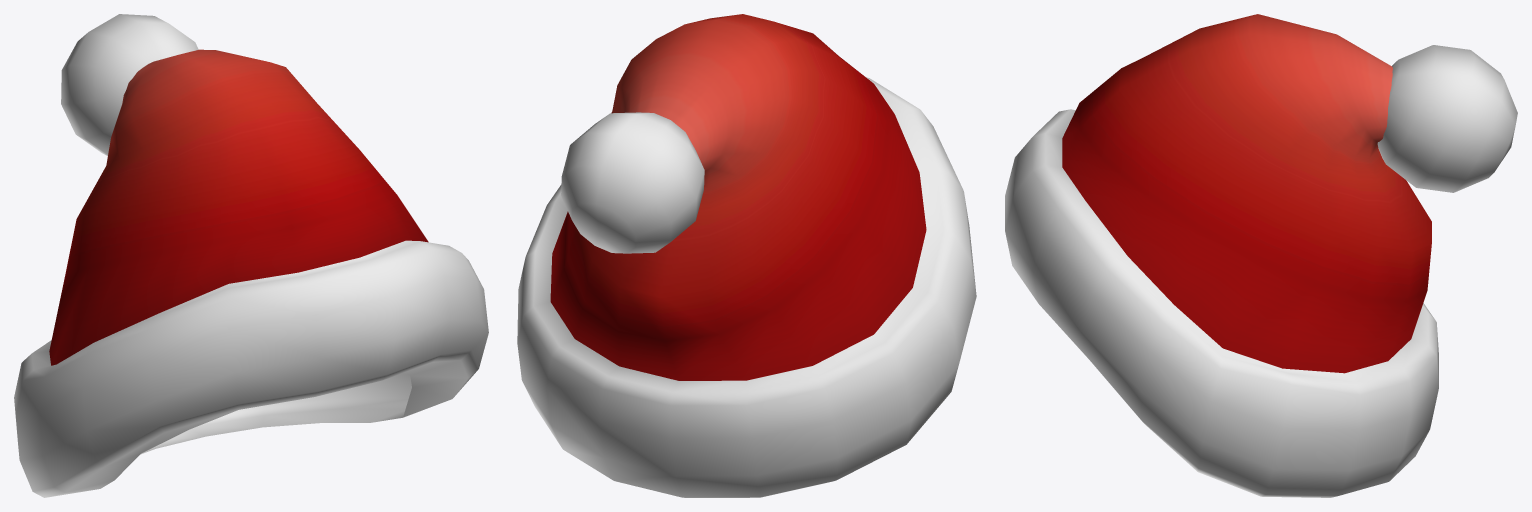
File: gorro.gltf
3 renders of one model, left to right at view 1: azimuth 30°, elevation 25°; view 2: azimuth 150°, elevation 25°; view 3: azimuth 270°, elevation 25°, orthographic. The views are drawn at different scales.
Parts seen in each view (by area): view 1: Node1; view 2: Node1; view 3: Node1.
Boxes of the visible parts, x1=… form: Node1: x1=14, y1=14, x2=488, y2=497; Node1: x1=517, y1=14, x2=976, y2=497; Node1: x1=1005, y1=14, x2=1517, y2=497.
Size of the model in its own units: 2.07 by 1.97 by 2.19.
1 material, 1 textured.
